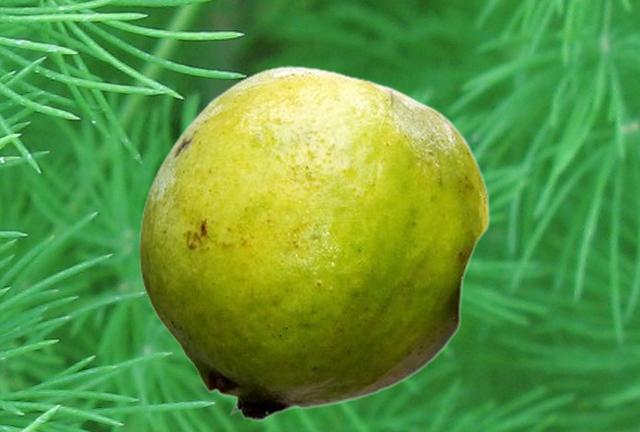guava: (138, 65, 489, 421)
